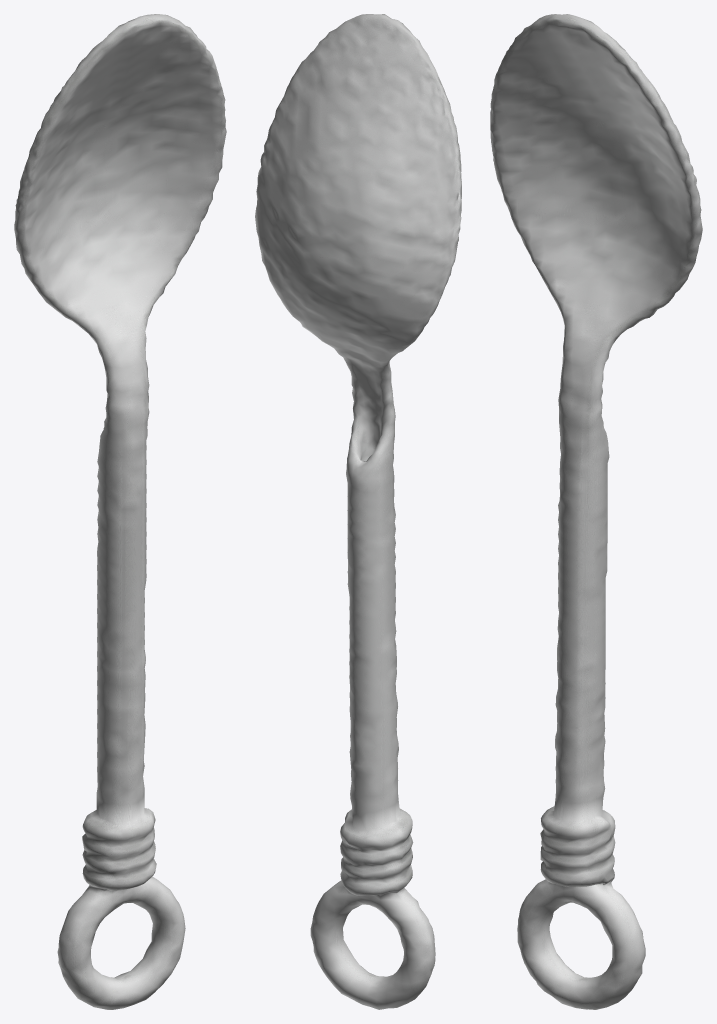
Rendered from como_tea_spoon_0308230135_texture.glb.
3 renders of one model, left to right at view 1: azimuth 30°, elevation 25°; view 2: azimuth 150°, elevation 25°; view 3: azimuth 330°, elevation 25°, orthographic. The views are drawn at different scales.
Parts seen in each view (by area): view 1: Mesh_0; view 2: Mesh_0; view 3: Mesh_0.
Part boxes in pixels (left/top/right/bottom): Mesh_0: left=14, top=14, right=226, bottom=1009; Mesh_0: left=255, top=14, right=461, bottom=1009; Mesh_0: left=490, top=14, right=702, bottom=1009.
Bounding box in the file's own units: 0.0438 × 0.2032 × 0.0204.
1 material, 1 textured.
